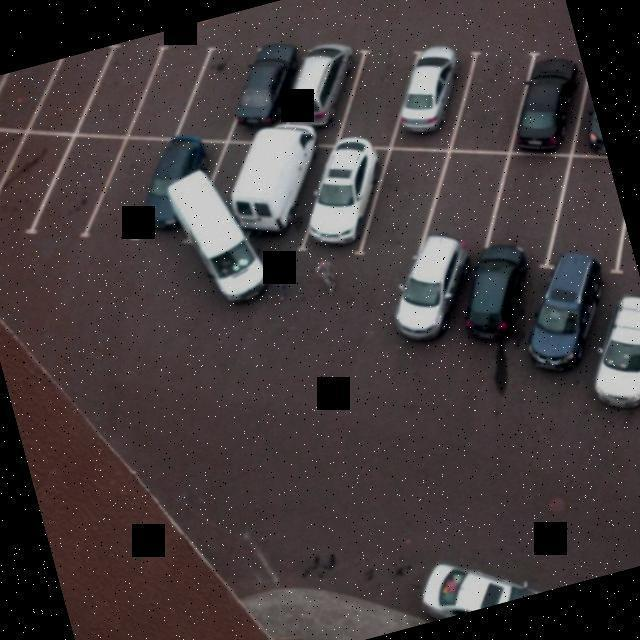space-empty: (17, 132, 149, 246), (427, 43, 553, 162), (317, 33, 442, 152), (342, 137, 464, 258), (471, 144, 590, 258), (67, 130, 191, 238), (406, 148, 525, 259), (526, 151, 632, 268), (58, 43, 181, 140), (167, 36, 280, 141), (114, 34, 226, 138), (13, 49, 125, 133), (0, 131, 91, 230), (0, 62, 60, 137), (0, 128, 40, 216)
space-occupied: (366, 38, 497, 154), (162, 127, 291, 239), (279, 136, 398, 257), (494, 39, 603, 161), (224, 136, 337, 249), (126, 129, 246, 235), (253, 41, 370, 139), (217, 42, 325, 131)
